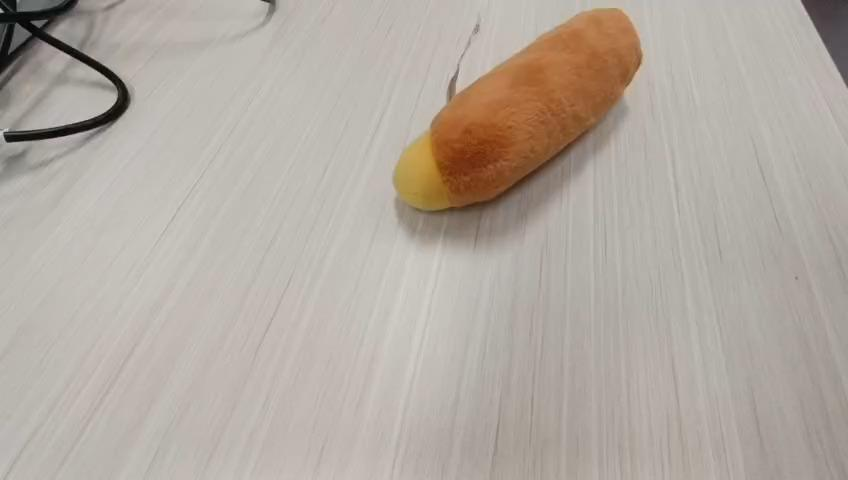hotdog: (391, 6, 643, 212)
